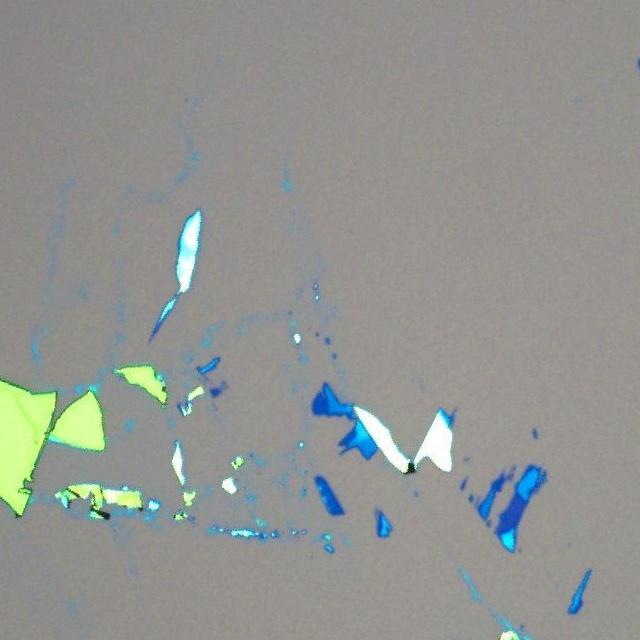monolayer-eWW4: (220, 380, 228, 390), (374, 508, 379, 522)
